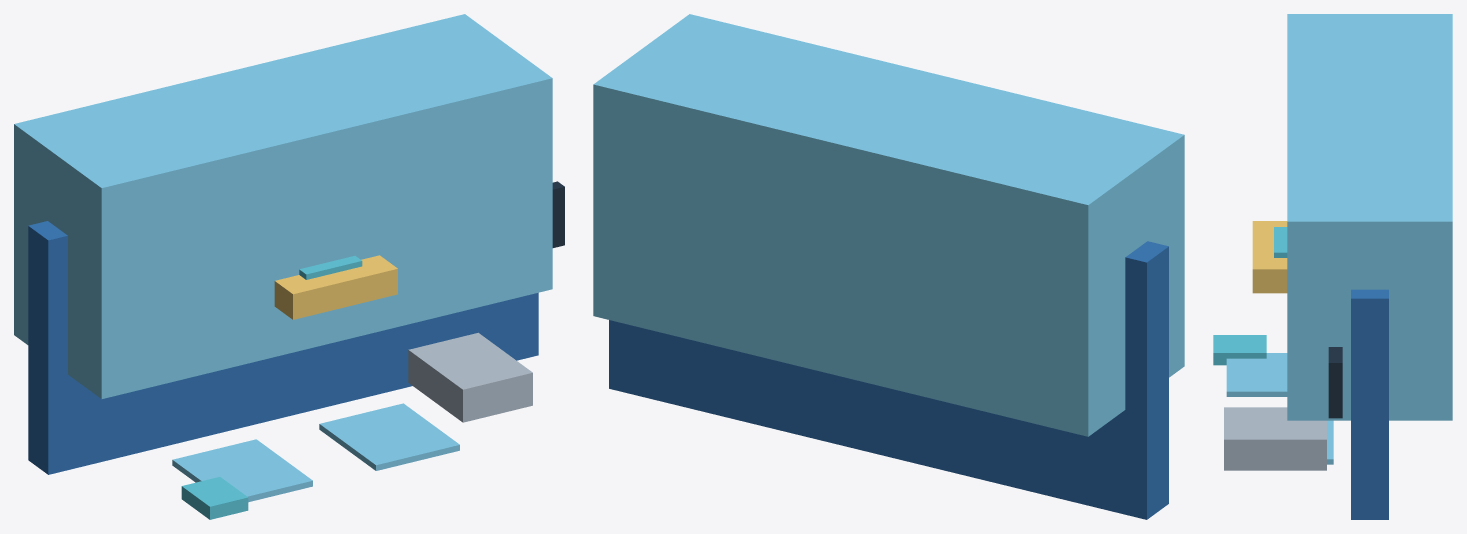
The model's file is three-flap-closer.gltf.
The picture shows the model from 3 angles, left to right: view 1: azimuth 30°, elevation 25°; view 2: azimuth 150°, elevation 25°; view 3: azimuth 270°, elevation 25°; orthographic projection. The views are drawn at different scales.
Parts seen in each view (by area): view 1: Machine envelope, Base frame, Electrical cabinet, Service door B, Service door A, Product tooling, Control panel, Outfeed conveyor, Pneumatic manifold; view 2: Machine envelope, Base frame; view 3: Machine envelope, Base frame, Electrical cabinet, Service door A, Product tooling, Control panel, Outfeed conveyor, Pneumatic manifold, Service door B.
Part boxes in pixels (x1,y1,x2,y2): Machine envelope: (14, 14, 552, 398); Base frame: (28, 221, 538, 474); Electrical cabinet: (408, 332, 532, 422); Service door B: (319, 403, 459, 470); Service door A: (172, 439, 312, 502); Product tooling: (274, 255, 397, 319); Control panel: (181, 477, 248, 519); Outfeed conveyor: (552, 181, 564, 247); Pneumatic manifold: (299, 256, 362, 279); Machine envelope: (593, 14, 1184, 436); Base frame: (609, 241, 1168, 519); Machine envelope: (1287, 14, 1452, 420); Base frame: (1351, 289, 1388, 519); Electrical cabinet: (1224, 407, 1326, 470); Service door A: (1226, 353, 1287, 396); Product tooling: (1252, 221, 1287, 293); Control panel: (1213, 335, 1266, 365); Outfeed conveyor: (1328, 347, 1342, 418); Pneumatic manifold: (1274, 227, 1287, 257); Service door B: (1327, 420, 1333, 464).
Bounding box in the file's own units: 7.21 × 4.37 × 3.14.
